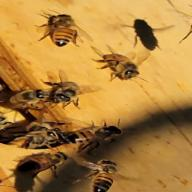Bee: (10, 77, 87, 115), (85, 45, 150, 86), (36, 8, 84, 53), (80, 158, 120, 189)
